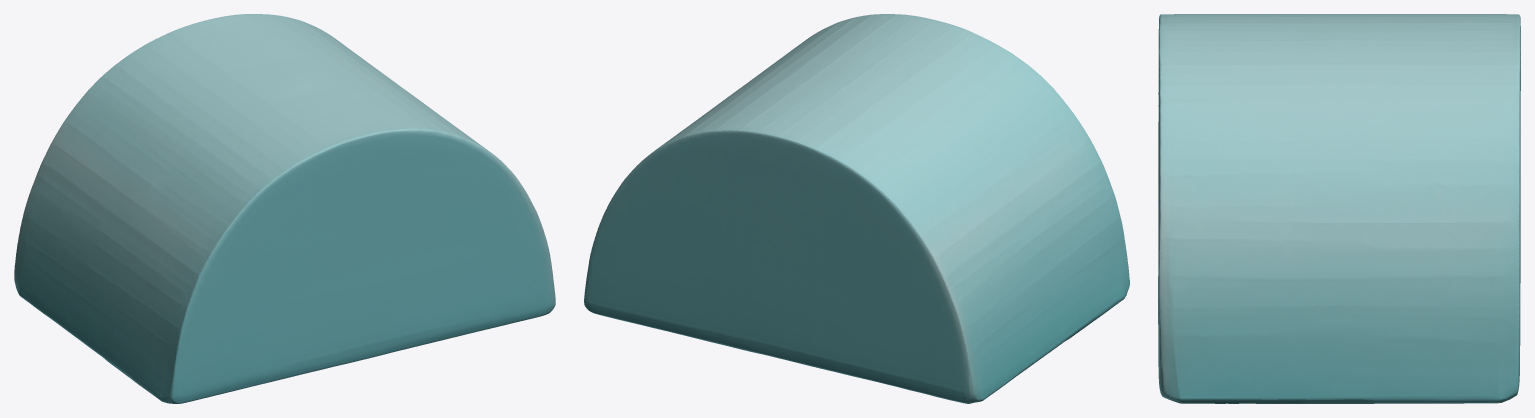
The model's file is obj3_scaled.glb.
3 renders of one model, left to right at view 1: azimuth 30°, elevation 25°; view 2: azimuth 150°, elevation 25°; view 3: azimuth 270°, elevation 25°, orthographic. The views are drawn at different scales.
Parts seen in each view (by area): view 1: world; view 2: world; view 3: world.
Boxes of the visible parts, x1,y1,x2,y2 form: world: (14, 14, 555, 403); world: (584, 14, 1129, 403); world: (1158, 14, 1520, 403).
Size of the model in its own units: 0.0284 by 0.0156 by 0.0199.
